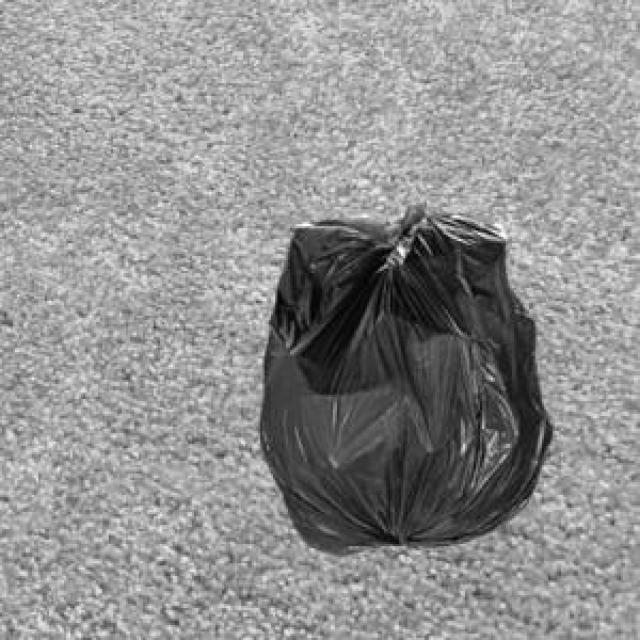miscellaneous trash: (256, 196, 548, 553)
